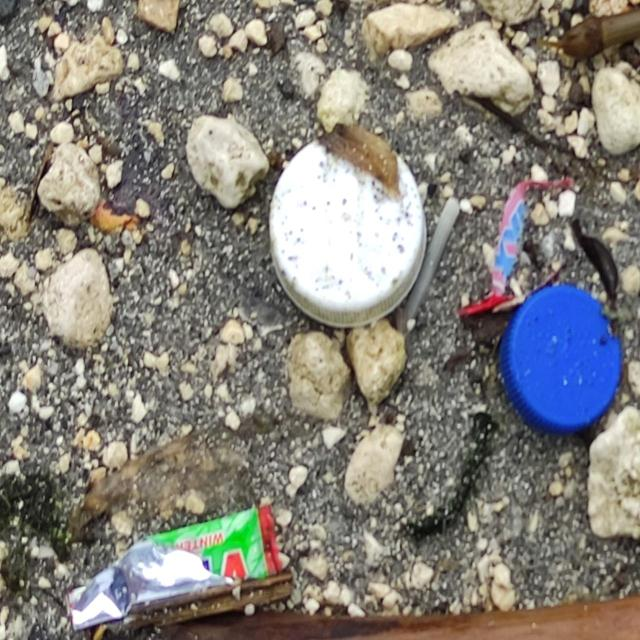plastic_waste: (266, 131, 430, 330), (68, 504, 284, 634), (499, 285, 625, 437)
